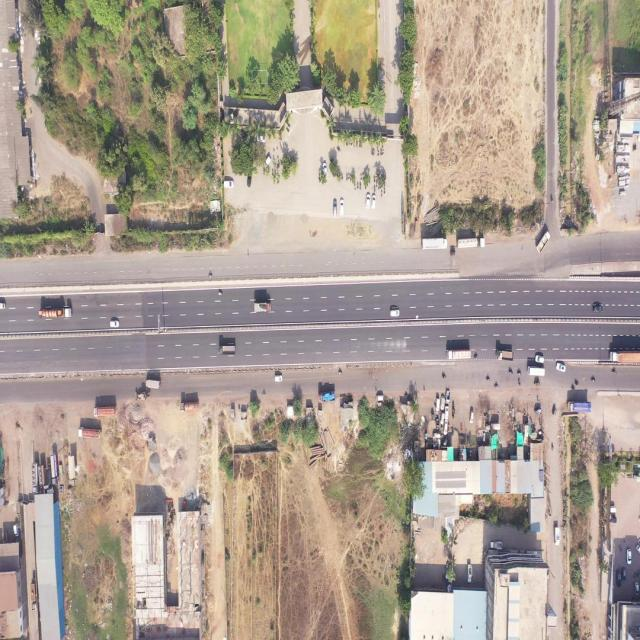3W: (491, 422, 500, 431), (535, 409, 542, 415), (553, 407, 557, 417), (534, 381, 540, 387)
Bus: (528, 366, 545, 376)
Cars: (556, 362, 566, 373), (626, 549, 632, 565), (440, 396, 446, 411), (634, 582, 640, 596), (535, 355, 544, 364), (390, 309, 400, 317), (333, 199, 337, 217), (110, 320, 119, 328), (224, 181, 234, 188), (593, 305, 603, 312), (371, 195, 376, 208), (469, 410, 474, 423), (622, 567, 626, 583), (366, 194, 370, 209), (376, 394, 384, 401), (14, 524, 18, 537), (436, 398, 440, 411), (340, 199, 343, 216), (275, 375, 282, 382), (610, 506, 617, 513), (610, 515, 617, 522), (440, 412, 444, 424), (247, 176, 251, 187), (0, 302, 5, 309), (450, 252, 456, 256)
LCV: (146, 379, 162, 389), (44, 468, 50, 492), (554, 526, 561, 545), (490, 541, 503, 550), (468, 564, 472, 584)
M2W: (632, 143, 636, 151), (551, 443, 555, 451), (591, 378, 597, 383), (612, 369, 617, 375), (571, 385, 576, 390), (574, 379, 579, 384), (494, 385, 499, 389), (380, 147, 382, 156), (551, 197, 554, 203), (518, 380, 521, 386), (359, 140, 361, 148), (208, 274, 212, 278), (218, 292, 222, 296), (509, 370, 513, 374), (517, 372, 521, 376), (486, 378, 490, 382), (371, 148, 373, 155), (382, 149, 384, 156), (374, 186, 376, 192), (354, 185, 356, 191), (475, 355, 478, 359), (442, 375, 446, 378), (373, 147, 374, 156), (339, 372, 342, 375), (384, 188, 385, 195), (360, 183, 361, 190), (357, 183, 358, 190), (356, 140, 357, 147), (381, 192, 382, 198), (376, 182, 377, 188), (374, 177, 375, 183), (361, 175, 362, 181), (348, 175, 349, 181), (347, 175, 348, 181), (350, 175, 351, 181), (351, 142, 352, 147), (378, 186, 379, 190), (342, 175, 342, 181), (378, 149, 378, 157)
MAV: (608, 350, 640, 363), (38, 306, 72, 318), (422, 238, 448, 250), (93, 406, 116, 418), (78, 426, 100, 438), (456, 239, 484, 248), (447, 350, 471, 360), (68, 454, 75, 487), (51, 453, 58, 485), (180, 402, 199, 412), (32, 462, 38, 493), (30, 583, 36, 611)
Truck: (567, 400, 592, 413), (497, 350, 513, 361), (254, 302, 271, 312), (319, 392, 335, 402), (218, 346, 235, 354)
